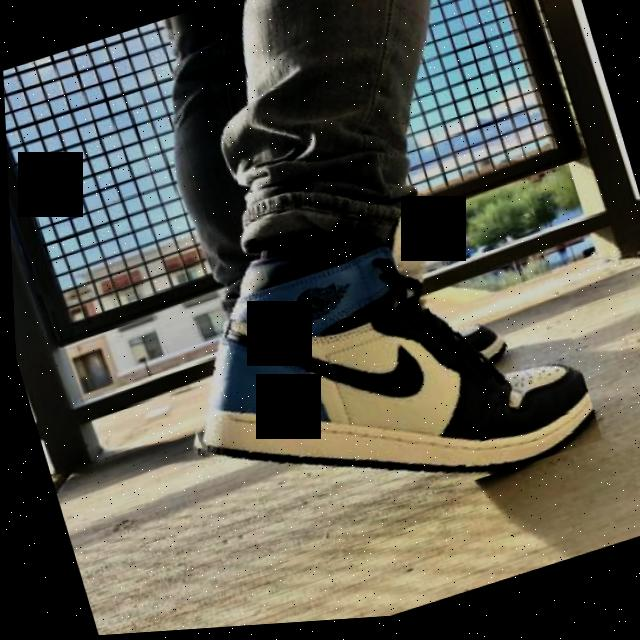shoe: (139, 175, 601, 566)
